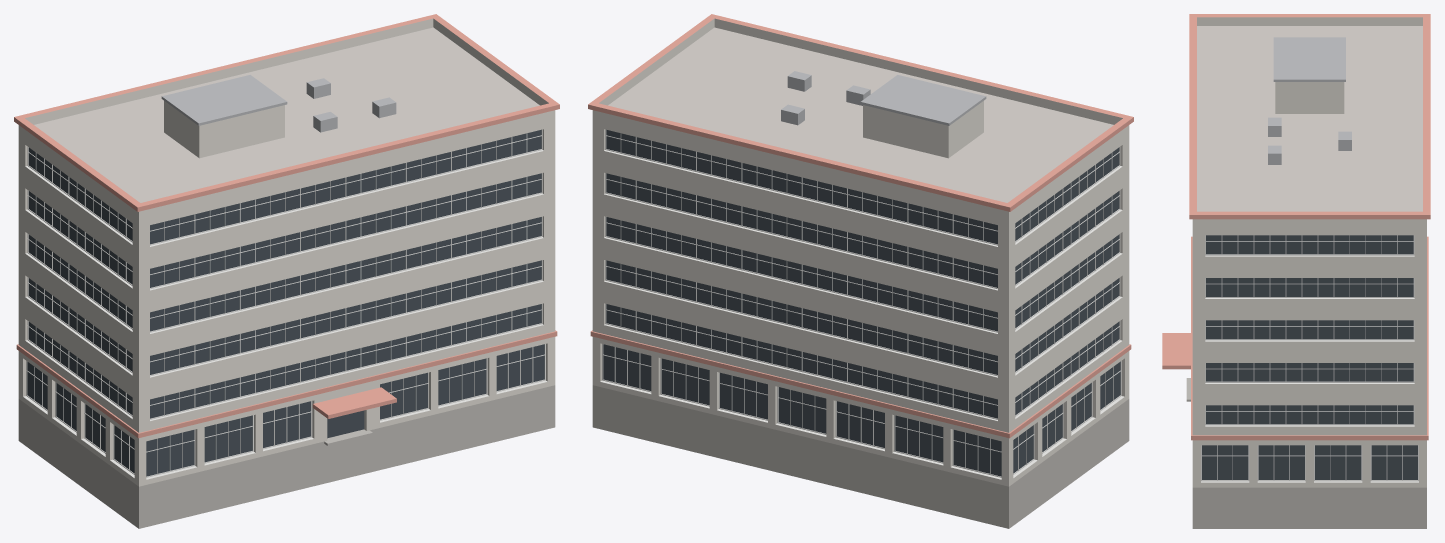
Rendered from office_6_l.glb.
3 views of the same model, side by side, from view 1: azimuth 30°, elevation 25°; view 2: azimuth 150°, elevation 25°; view 3: azimuth 270°, elevation 25° (orthographic). The views are drawn at different scales.
Visible parts, largest first — view 1: office_6_l; view 2: office_6_l; view 3: office_6_l.
Boxes of the visible parts, x1,y1,x2,y2 form: office_6_l: [14, 14, 559, 528]; office_6_l: [588, 14, 1133, 528]; office_6_l: [1162, 14, 1430, 528].
Size of the model in its own units: 34.5 by 27.35 by 19.45.
